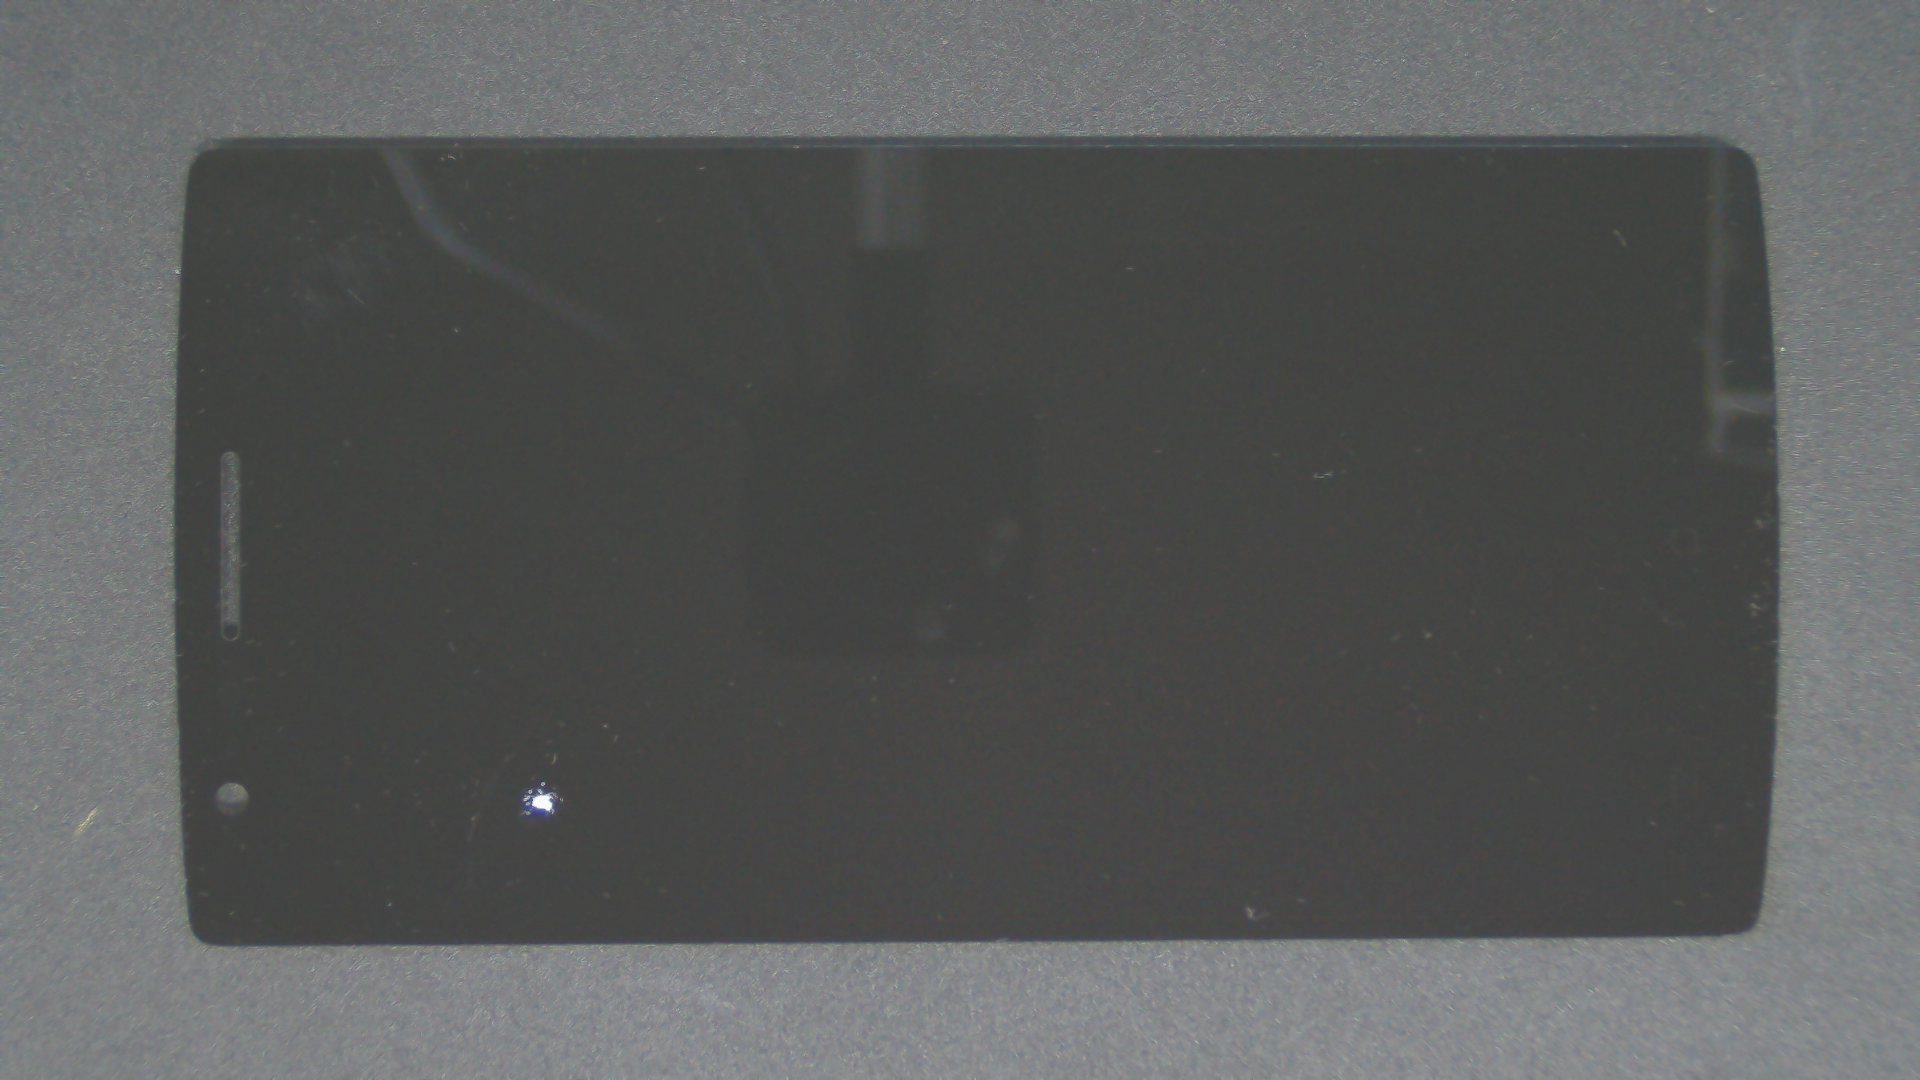oil: (273, 389, 815, 1080)
